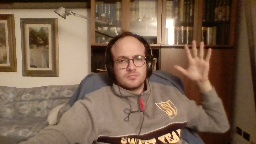Mano_aperta: (172, 39, 212, 82)
